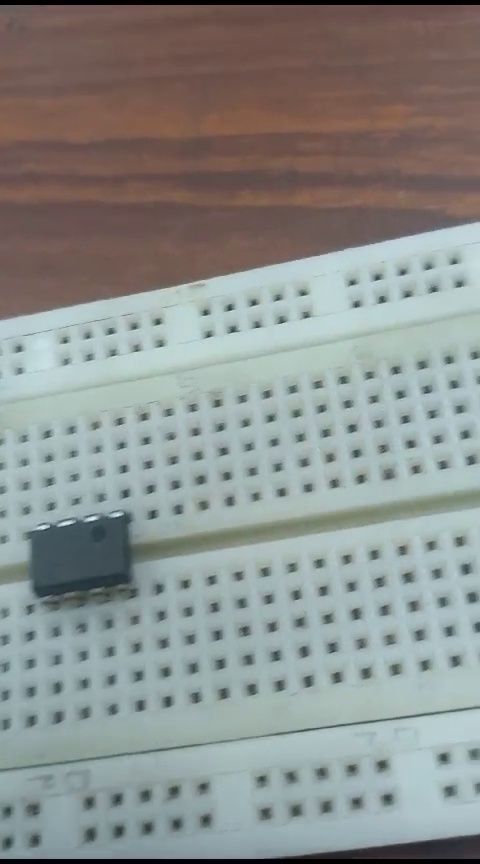IC: (26, 503, 138, 607)
